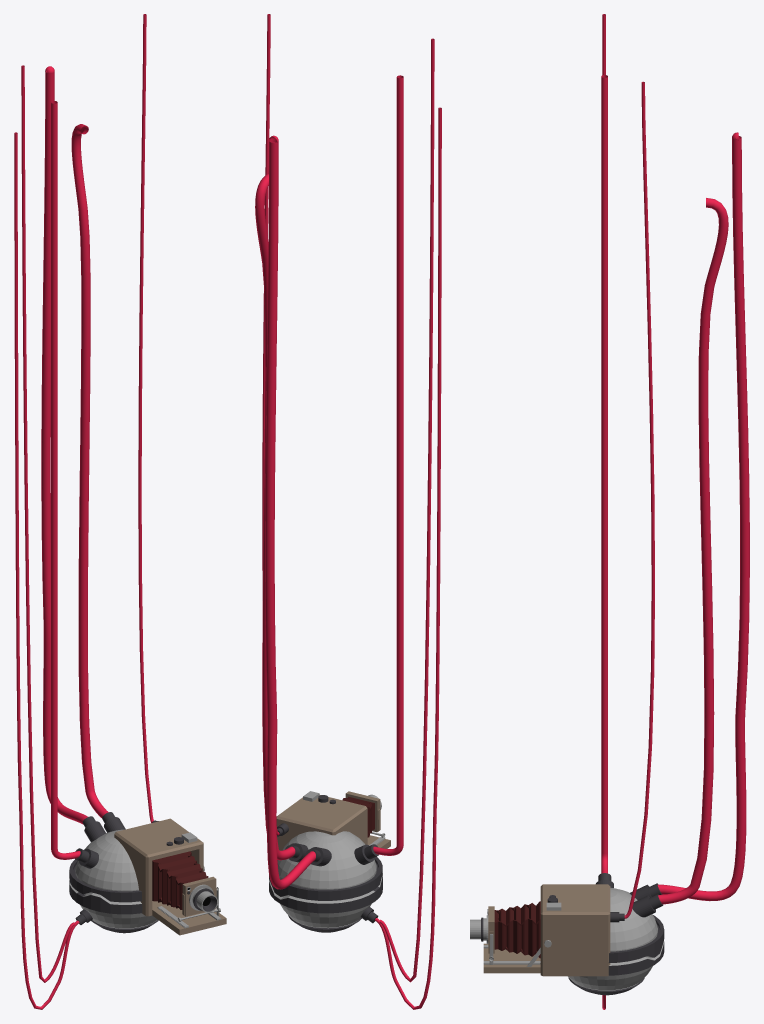
The model's file is enemy1.fbx.
3 renders of one model, left to right at view 1: azimuth 30°, elevation 25°; view 2: azimuth 150°, elevation 25°; view 3: azimuth 270°, elevation 25°, orthographic. The views are drawn at different scales.
Visible parts, largest first — view 1: BezierCurve.003, cambody; view 2: BezierCurve.003, cambody; view 3: BezierCurve.003, cambody.
Part boxes in pixels (bbox=[...]): BezierCurve.003: bbox=[14, 14, 153, 1009]; cambody: bbox=[69, 812, 226, 935]; BezierCurve.003: bbox=[255, 14, 441, 1009]; cambody: bbox=[269, 791, 390, 932]; BezierCurve.003: bbox=[601, 14, 749, 1009]; cambody: bbox=[470, 873, 664, 995].
Size of the model in its own units: 556 by 3132 by 803.
